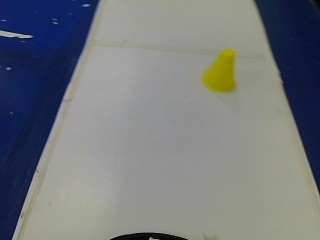cone: (196, 45, 240, 95)
